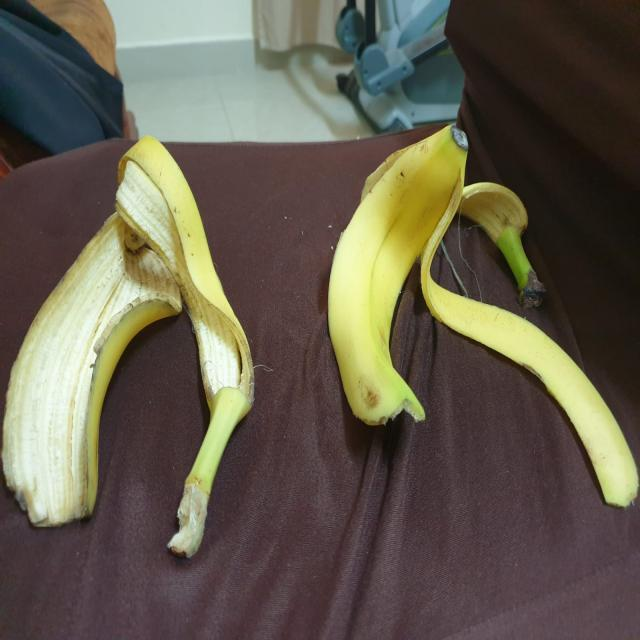banana-peel: (326, 121, 638, 509), (1, 134, 255, 559)
